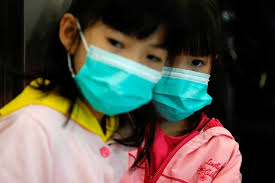with_mask: (59, 12, 163, 117), (165, 48, 216, 118)
